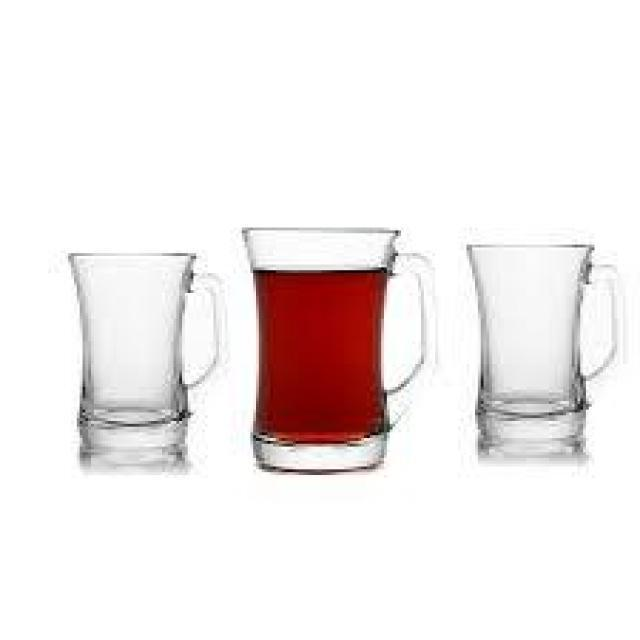glass: (240, 219, 437, 475), (464, 240, 632, 442)
